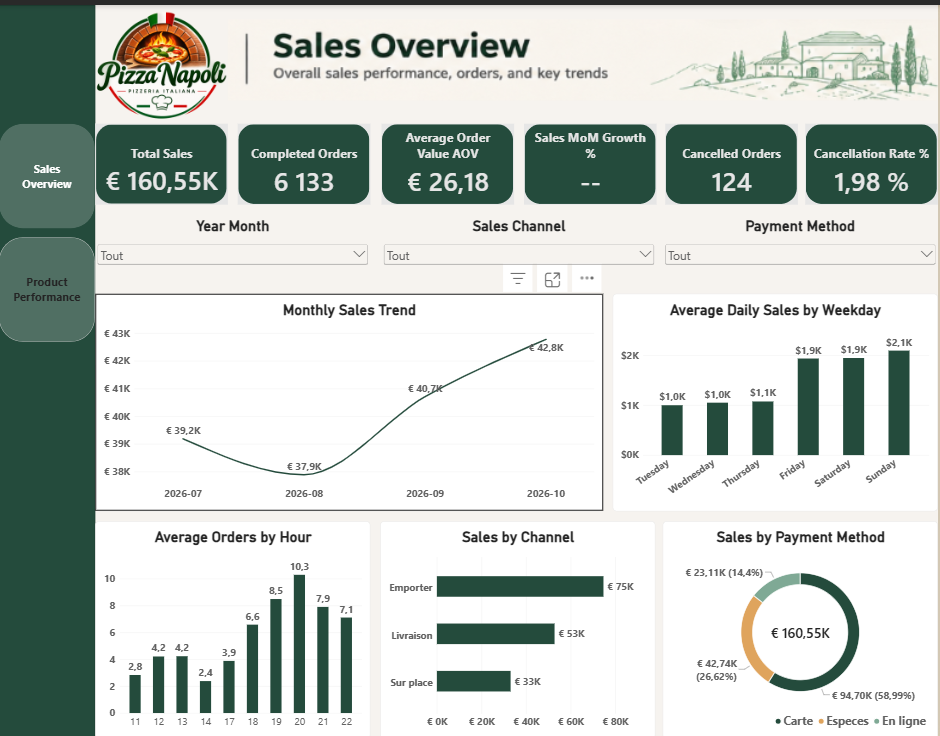

Layout of this report page (visuals, bound fields, positions):
{"tool":"powerbi","page":{"name":"Sales Overview","canvas":[1920,1500],"ordinal":0},"visuals":[{"type":"shape","box":[0,0,196.8,1500.5],"z":0},{"type":"image","box":[166.2,0,333.5,242.6],"z":1000},{"type":"cardVisual","fields":{"Data":["Measures_Table.Completed Orders Display"]},"box":[489.2,242.6,270.9,165.8],"z":2000},{"type":"cardVisual","fields":{"Data":["Measures_Table.Total Sales"]},"box":[196.1,242.6,270.9,165.8],"z":3000},{"type":"cardVisual","fields":{"Data":["Measures_Table.Cancellation Rate %"]},"box":[1649.5,242.6,270.9,165.8],"z":4000},{"type":"cardVisual","fields":{"Data":["Measures_Table.Cancelled Orders"]},"box":[1362.5,242.6,270.9,165.8],"z":5000},{"type":"cardVisual","fields":{"Data":["Measures_Table.Sales MoM Growth %"]},"box":[1073.4,242.6,270.9,165.8],"z":6000},{"type":"cardVisual","fields":{"Data":["Measures_Table.Average Order Value AOV"]},"box":[782.3,242.6,270.9,165.8],"z":7000},{"type":"lineChart","title":"Monthly Sales Trend","fields":{"Category":["Dim_Date.Year_Month"],"Y":["Measures_Table.Total Sales"]},"box":[196.8,590.5,1037.8,444.8],"z":8000},{"type":"clusteredColumnChart","title":"Average Daily Sales by Weekday","fields":{"Category":["Dim_Date.Weekday_Name"],"Y":["Measures_Table.Average Daily Sales"]},"box":[1255.1,590.5,664.6,444.8],"z":9000},{"type":"clusteredColumnChart","title":"Average Orders by Hour","fields":{"Category":["Fact_Sales.Order_hour"],"Y":["Measures_Table.Average Orders per Hour"]},"box":[197.5,1055,562.5,445],"z":10000},{"type":"clusteredBarChart","title":"Sales by Channel","fields":{"Category":["Fact_Sales.Sales_Channel"],"Y":["Measures_Table.Total Sales"]},"box":[780,1055,562.5,445],"z":11000},{"type":"donutChart","title":"Sales by Payment Method","fields":{"Category":["Fact_Sales.Payment_Method"],"Y":["Measures_Table.Total Sales"]},"box":[1357.5,1055,562.5,445],"z":12000},{"type":"slicer","title":"Year Month","fields":{"Values":["Dim_Date.Year_Month"]},"box":[196.8,434.6,562.4,138],"z":13000},{"type":"slicer","title":"Sales Channel","fields":{"Values":["Fact_Sales.Sales_Channel"]},"box":[782.2,434.6,562.4,138],"z":14000},{"type":"slicer","title":"Payment Method","fields":{"Values":["Fact_Sales.Payment_Method"]},"box":[1357.4,434.6,562.4,138],"z":15000},{"type":"pageNavigator","box":[0,242.8,196.8,447.3],"z":16000},{"type":"textbox","box":[501,0,304.2,74.1],"z":17000},{"type":"image","box":[467.8,0,1452,225],"z":18000}]}

Visuals, with their boxes on the page's 1920x1500 design canvas (x1, y1, x2, y2). These are canvas units, not pixel positions in the 940x736 screenshot, which may show the page scaled, cropped or inside an application window:
shape: l=0, t=0, r=197, b=1500
image: l=166, t=0, r=500, b=243
cardVisual - Measures_Table.Completed Orders Display: l=489, t=243, r=760, b=408
cardVisual - Measures_Table.Total Sales: l=196, t=243, r=467, b=408
cardVisual - Measures_Table.Cancellation Rate %: l=1650, t=243, r=1920, b=408
cardVisual - Measures_Table.Cancelled Orders: l=1362, t=243, r=1633, b=408
cardVisual - Measures_Table.Sales MoM Growth %: l=1073, t=243, r=1344, b=408
cardVisual - Measures_Table.Average Order Value AOV: l=782, t=243, r=1053, b=408
"Monthly Sales Trend" lineChart: l=197, t=590, r=1235, b=1035
"Average Daily Sales by Weekday" clusteredColumnChart: l=1255, t=590, r=1920, b=1035
"Average Orders by Hour" clusteredColumnChart: l=198, t=1055, r=760, b=1500
"Sales by Channel" clusteredBarChart: l=780, t=1055, r=1342, b=1500
"Sales by Payment Method" donutChart: l=1358, t=1055, r=1920, b=1500
"Year Month" slicer: l=197, t=435, r=759, b=573
"Sales Channel" slicer: l=782, t=435, r=1345, b=573
"Payment Method" slicer: l=1357, t=435, r=1920, b=573
pageNavigator: l=0, t=243, r=197, b=690
textbox: l=501, t=0, r=805, b=74
image: l=468, t=0, r=1920, b=225
